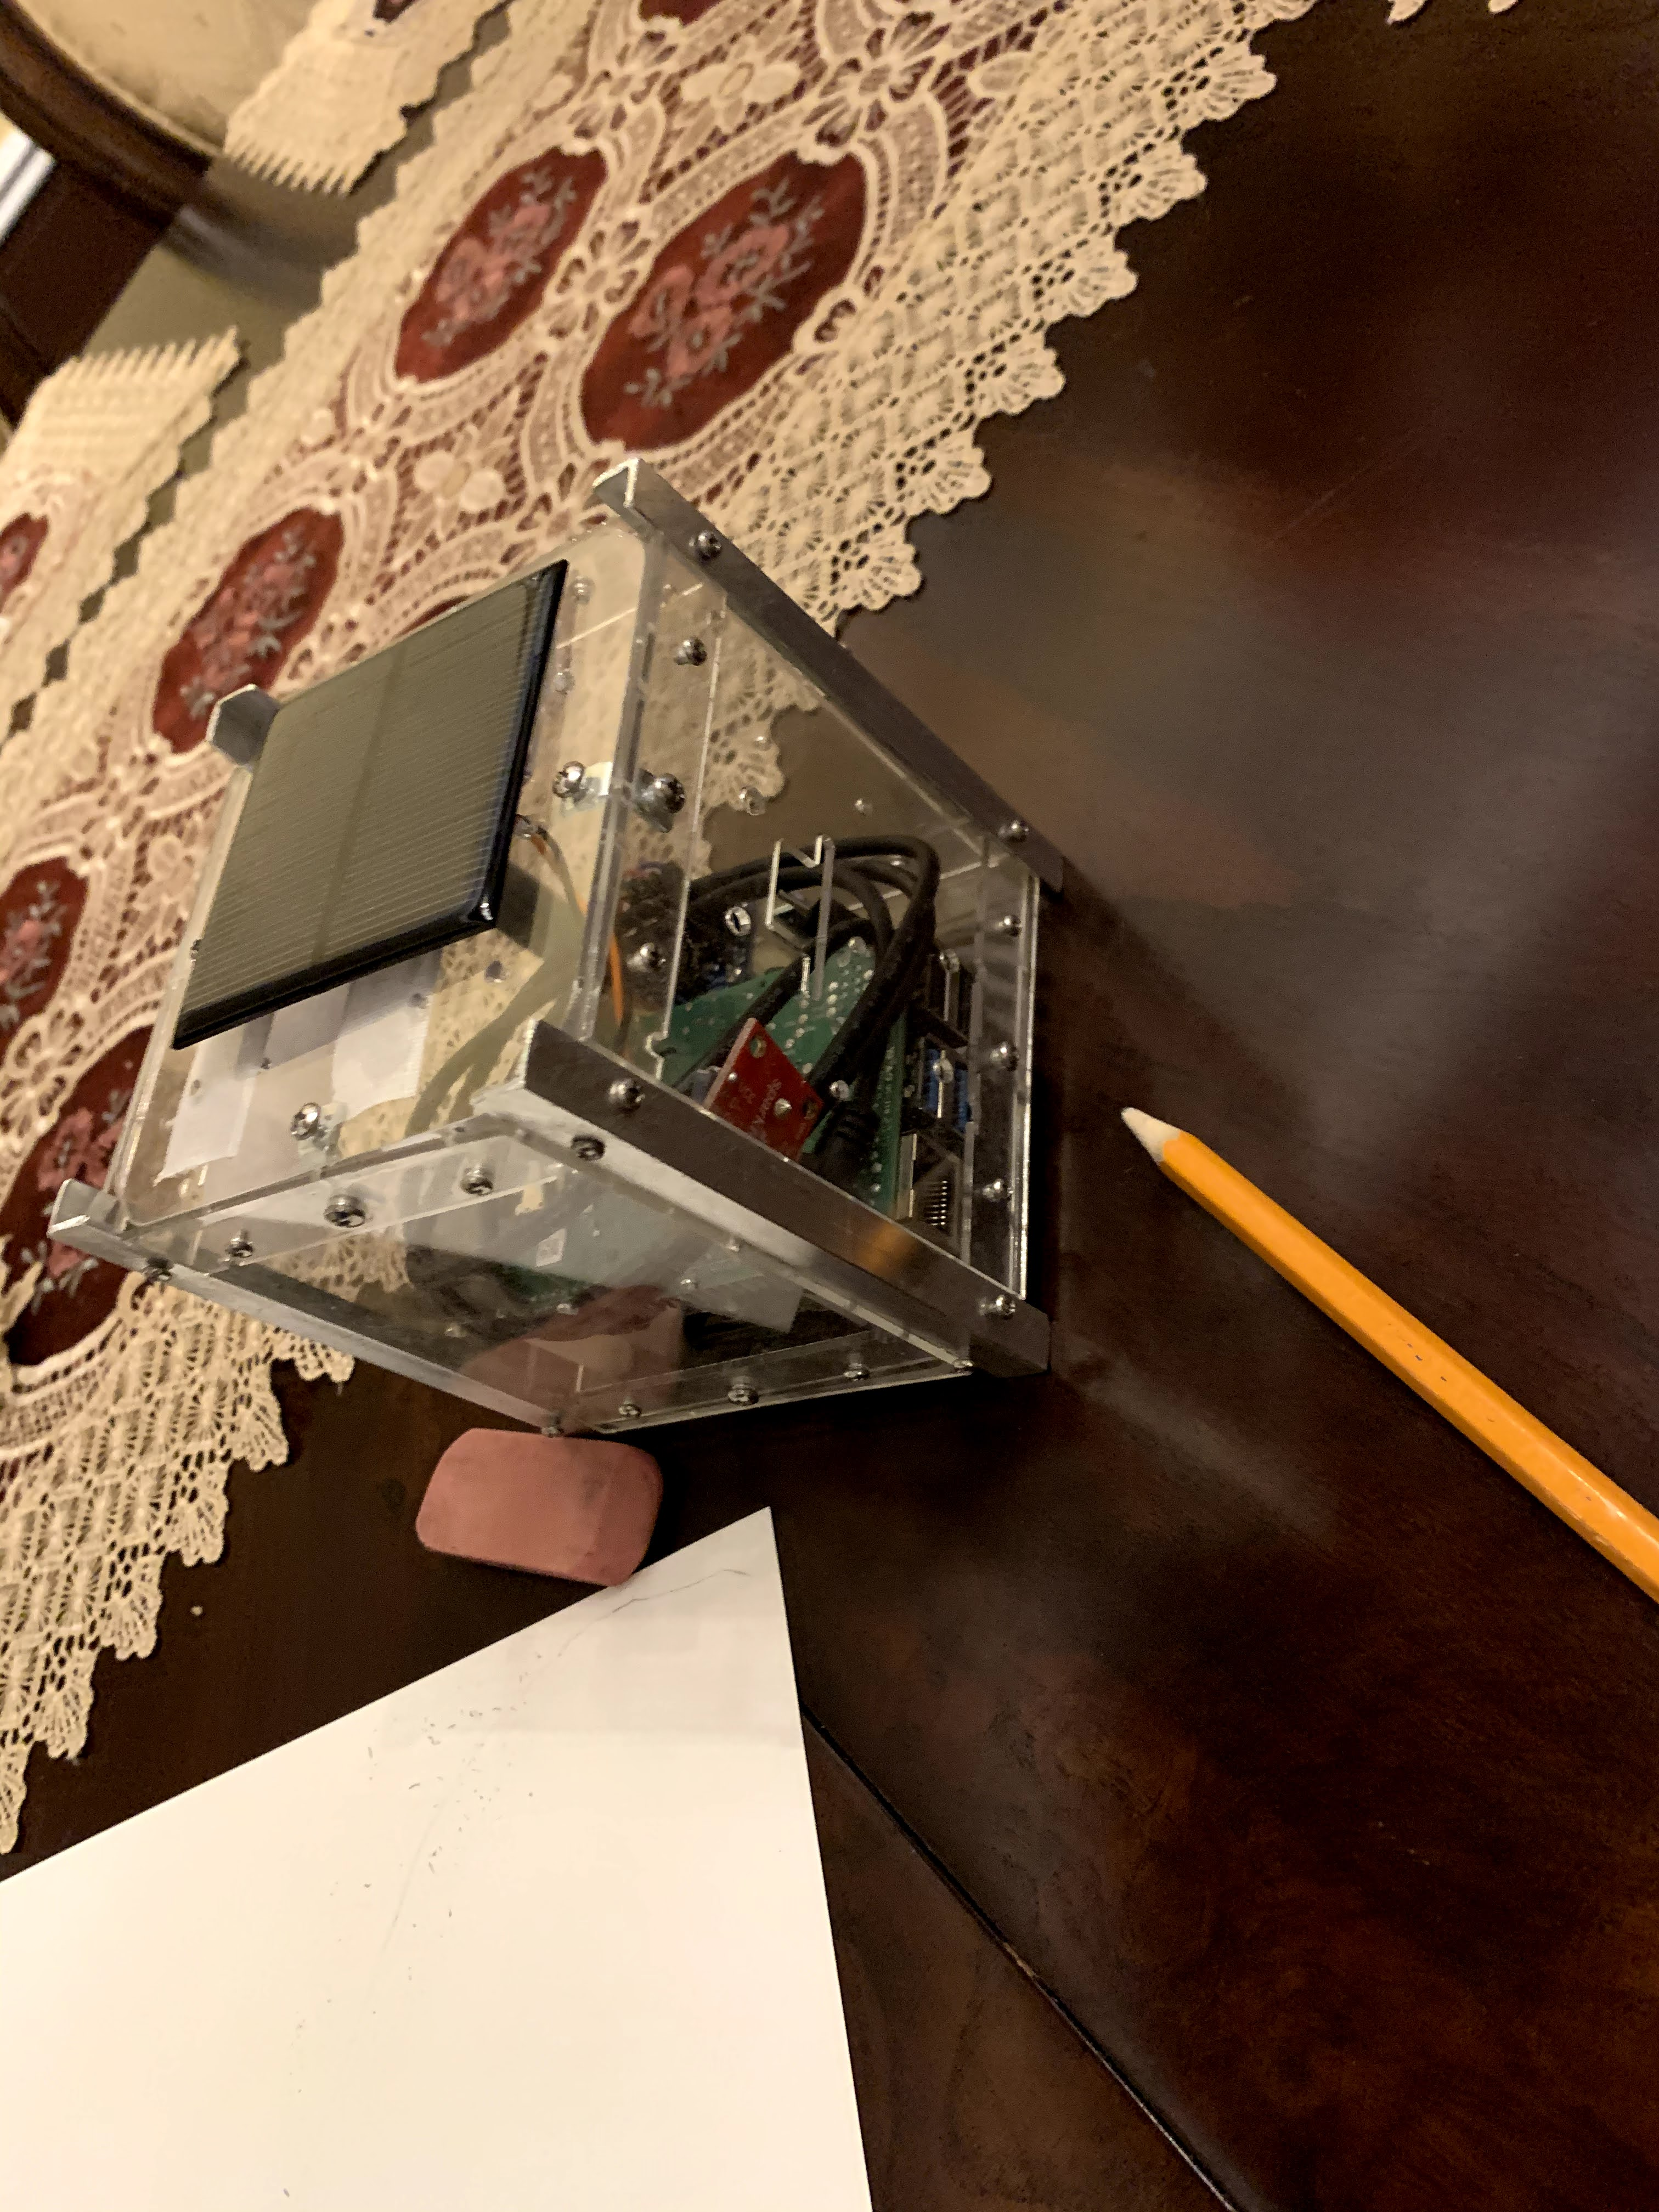Space-debris-cubesat: (51, 456, 1079, 1397)
